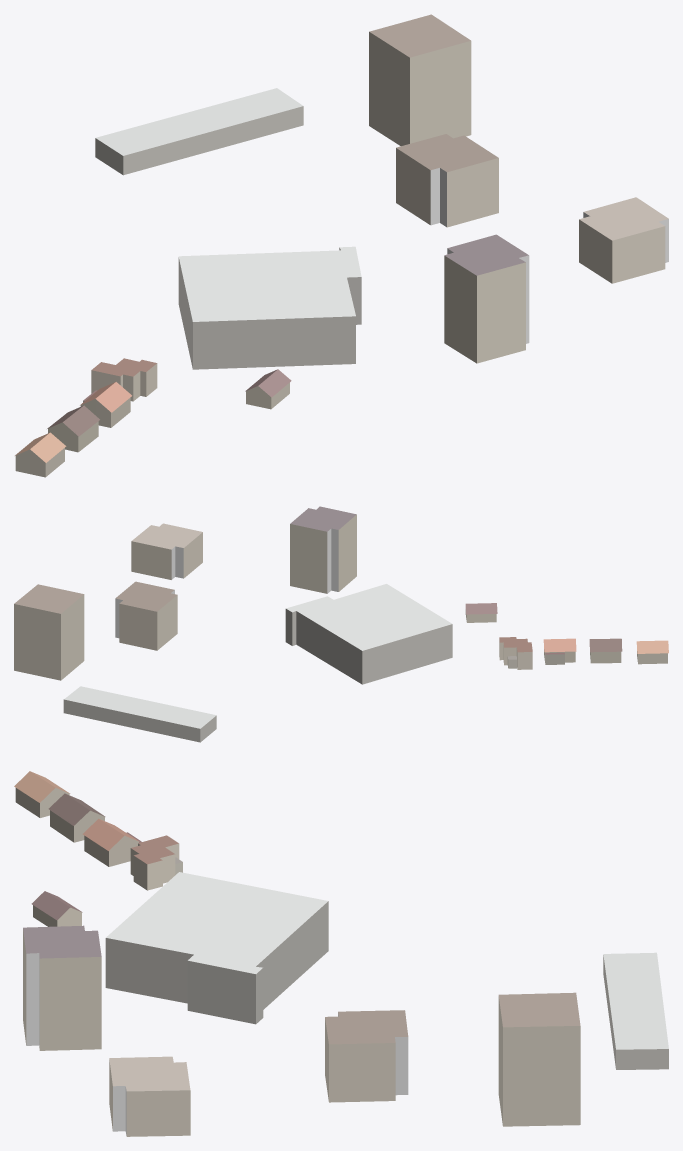
3 renders of one model, top to bottom at view 1: azimuth 30°, elevation 25°; view 2: azimuth 150°, elevation 25°; view 3: azimuth 270°, elevation 25°, orthographic. The views are drawn at different scales.
Visible parts, largest first — view 1: tuile; view 2: tuile; view 3: tuile.
Part boxes in pixels (x1,y1,x2,y2): tuile: (15,14,668,477); tuile: (14,506,668,742); tuile: (14,771,668,1136).
Size of the model in its own units: 232 by 35.52 by 181.
